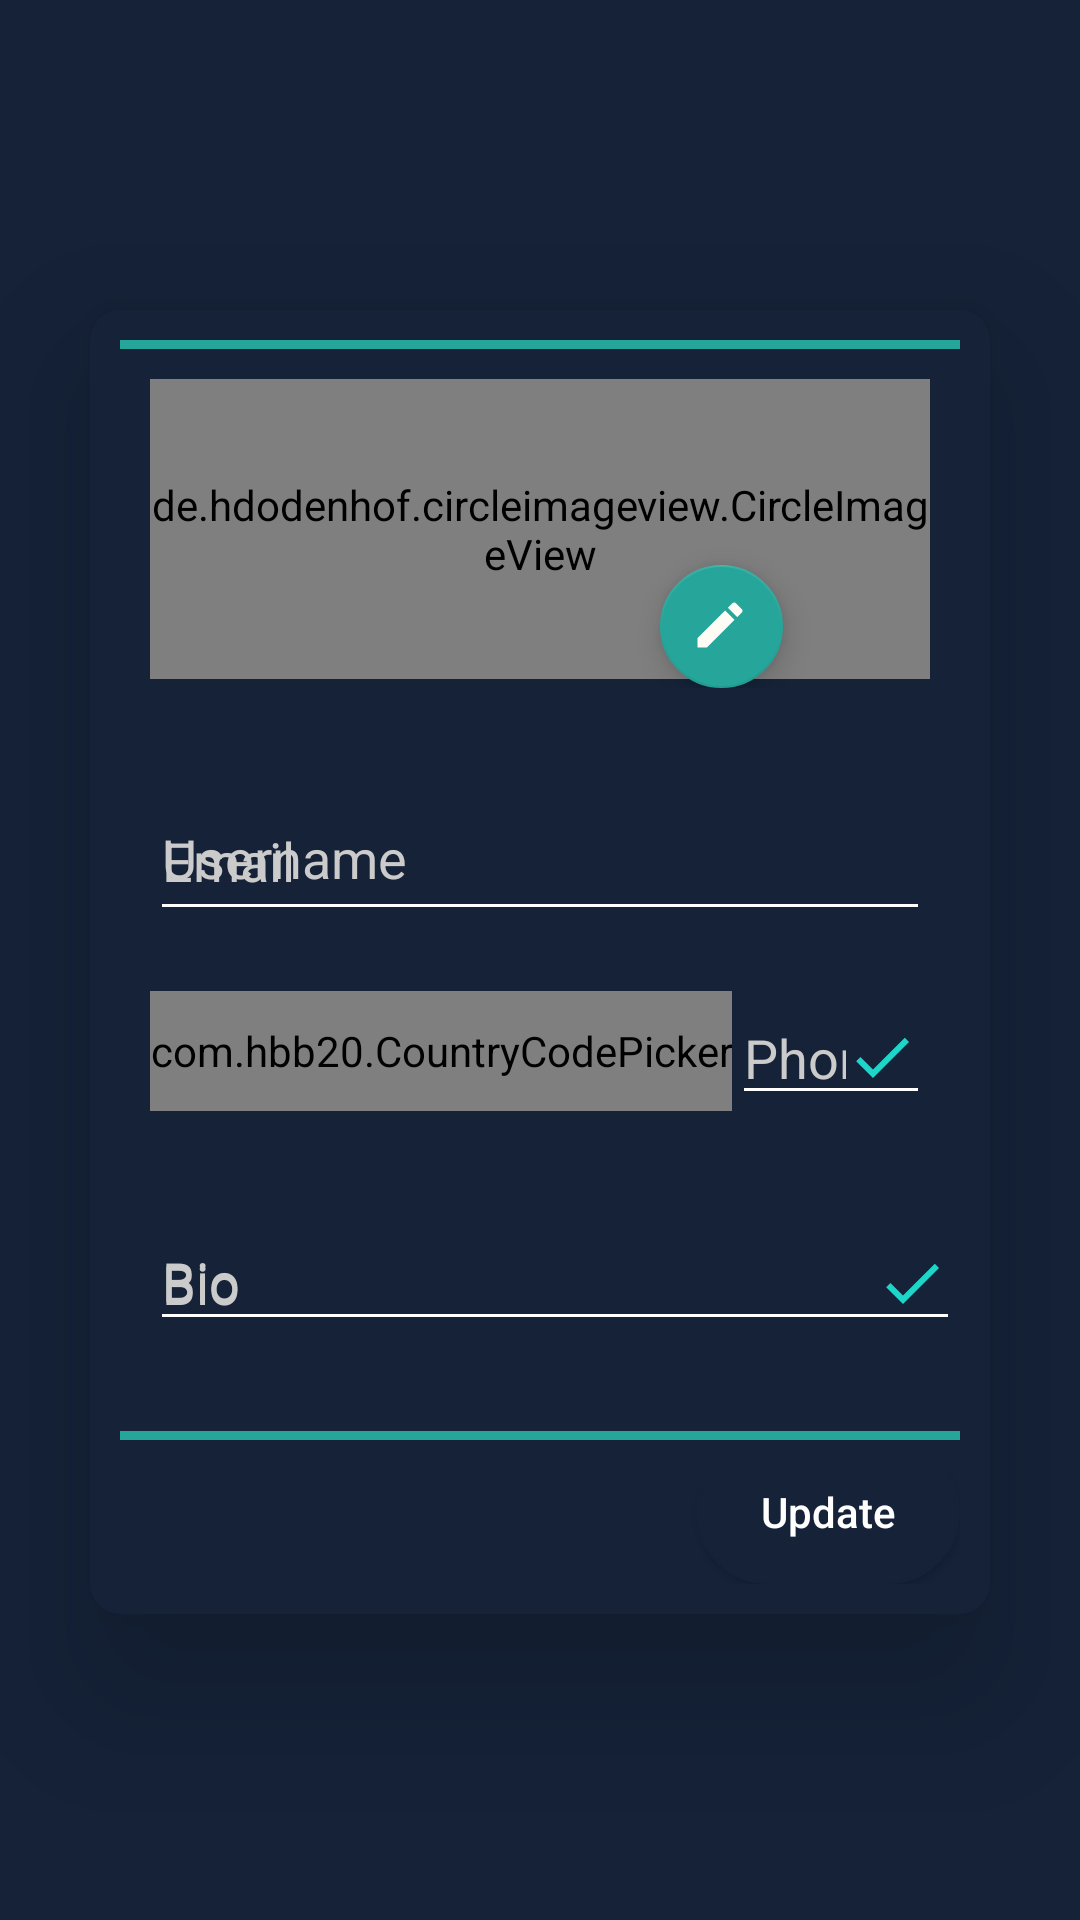

Icons on this 1080px x 1920px Android screen, each with its box as (x1, y1, x2, y2):
edit: (660, 565, 783, 688)
